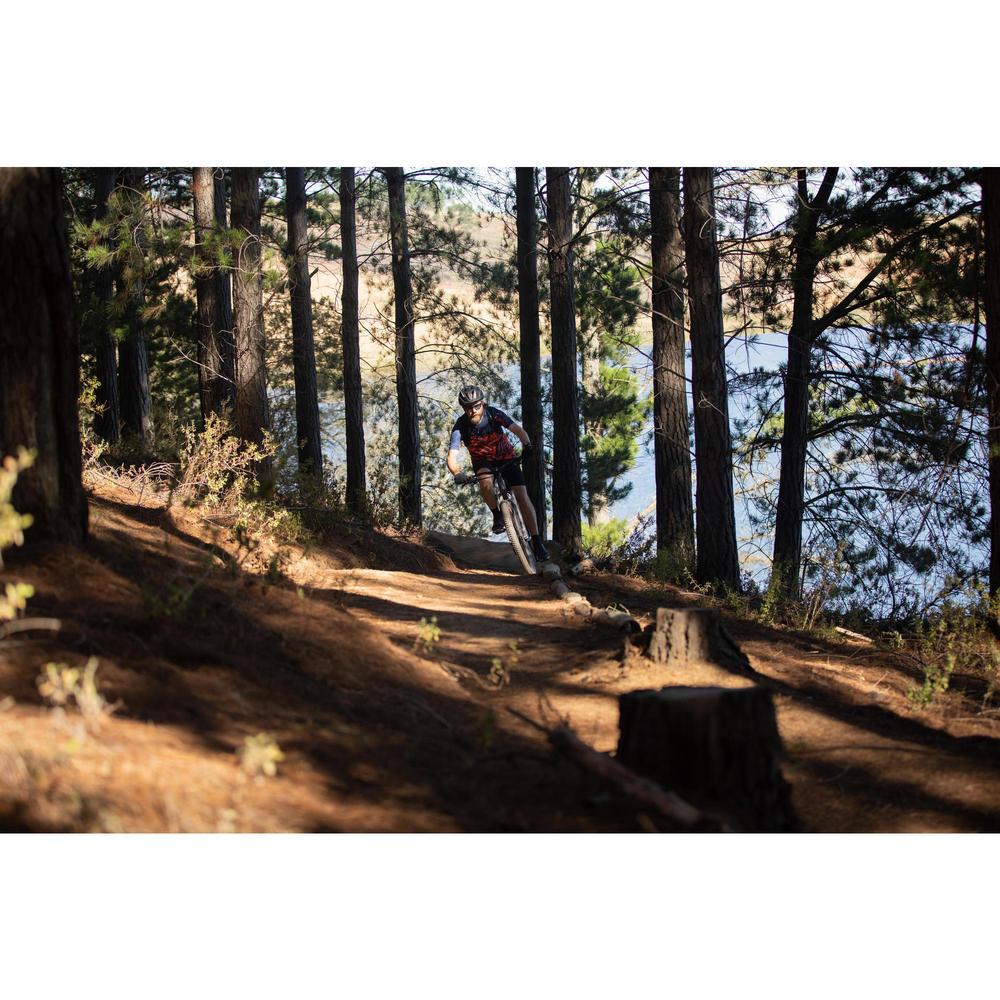MountainBike: (447, 456, 552, 582)
